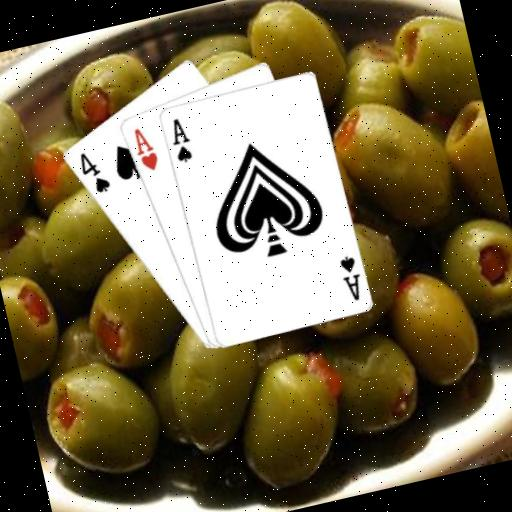4S: (74, 145, 113, 198)
AH: (128, 122, 162, 175)
AS: (335, 250, 367, 304), (164, 113, 196, 166)
